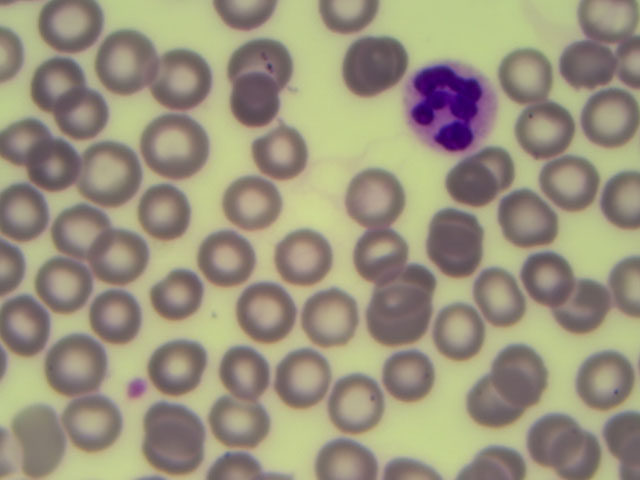Platelets: (120, 372, 153, 406)
RBC: (318, 424, 382, 480), (37, 1, 101, 56), (94, 32, 158, 87), (21, 53, 85, 108), (49, 90, 113, 145), (6, 108, 70, 163), (18, 141, 82, 196), (80, 146, 144, 201), (139, 122, 203, 177), (147, 50, 211, 105), (227, 73, 291, 128), (230, 41, 294, 96), (345, 38, 409, 93), (499, 48, 563, 103), (545, 39, 609, 94), (573, 83, 637, 138), (505, 105, 569, 160), (538, 146, 602, 201), (497, 189, 561, 244), (422, 154, 486, 209), (460, 147, 524, 202), (346, 170, 410, 225), (430, 230, 494, 285), (431, 206, 495, 261), (346, 220, 410, 275), (374, 261, 438, 316), (364, 293, 428, 348), (437, 307, 501, 362), (470, 266, 534, 321), (514, 251, 578, 306), (548, 276, 612, 331), (574, 348, 638, 403), (523, 412, 587, 467), (486, 342, 550, 397), (471, 375, 535, 430), (379, 349, 443, 404), (325, 380, 389, 435), (276, 348, 340, 403), (302, 292, 366, 347), (273, 228, 337, 283), (224, 175, 288, 230), (253, 129, 317, 184), (201, 230, 265, 285), (156, 263, 220, 318), (140, 185, 204, 240), (84, 234, 148, 289), (41, 202, 105, 257), (35, 256, 99, 311), (2, 302, 66, 357), (44, 338, 108, 393), (83, 280, 147, 335), (66, 393, 130, 448), (14, 411, 78, 466), (144, 407, 208, 462), (140, 336, 204, 391), (206, 391, 270, 446), (217, 346, 281, 401), (228, 285, 292, 340)
WBC: (401, 58, 497, 154)
